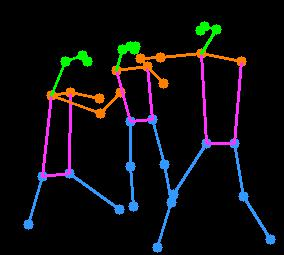normal: (109, 38, 184, 220)
